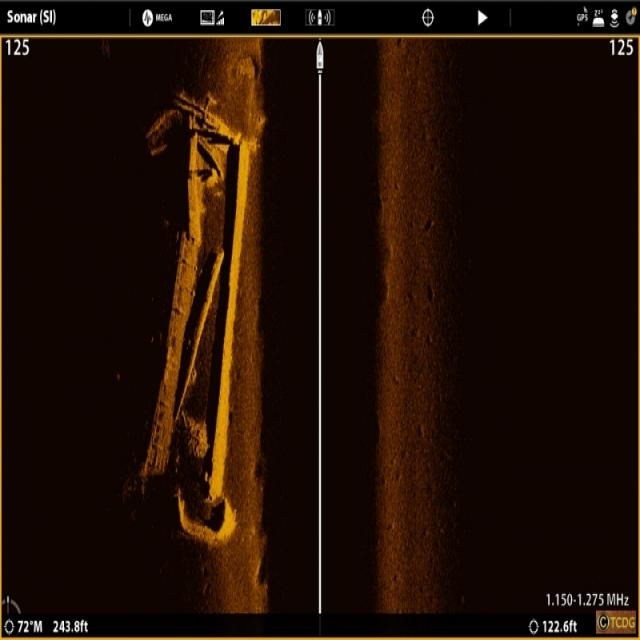shipwreck: (140, 83, 246, 543)
